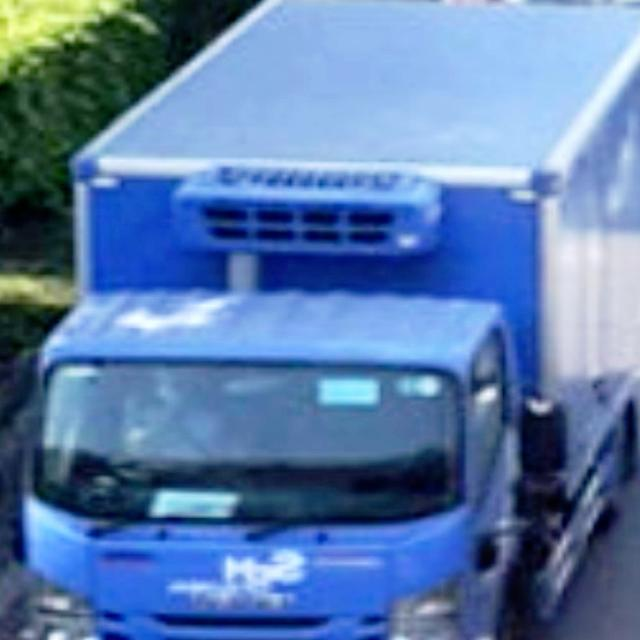Car: (14, 0, 640, 640), (440, 0, 640, 180)
